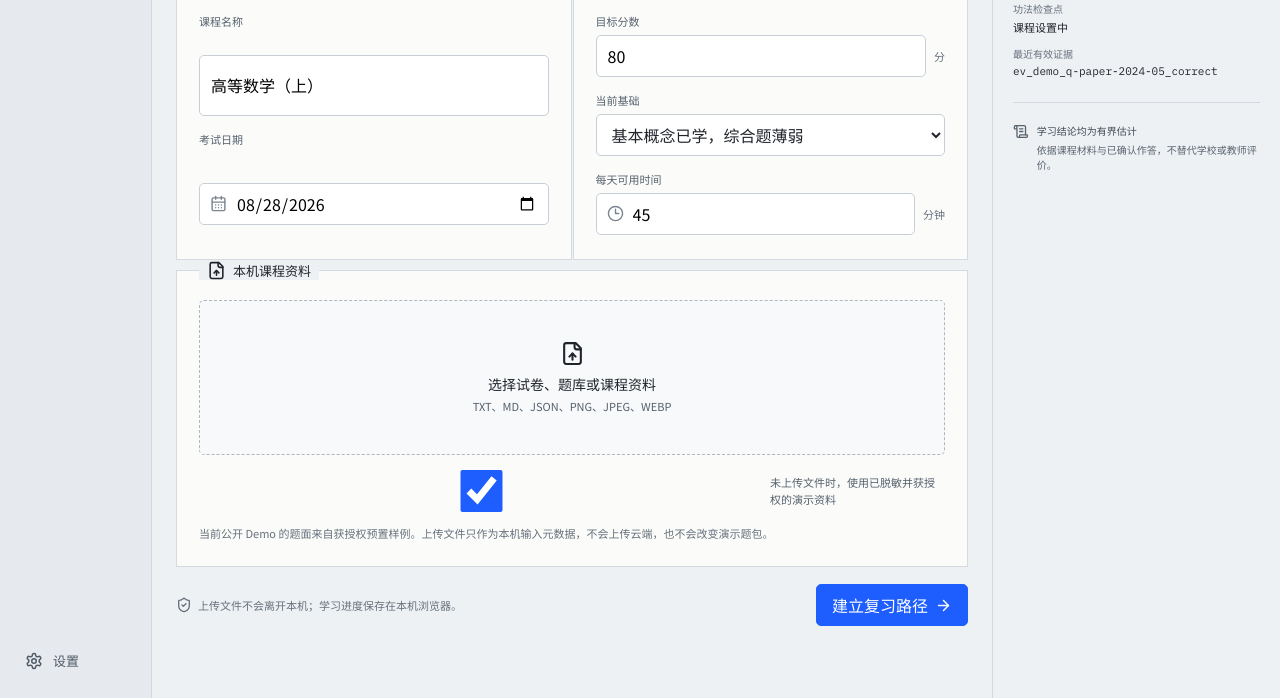
warns when a new round cannot clear persisted progress
(page scrolled)
What coordinates should you click on to do the following:
click the button "建立复习路径"
I would click on:
 (892, 606)
Its box is [816,584,968,626].
(page scrolled)
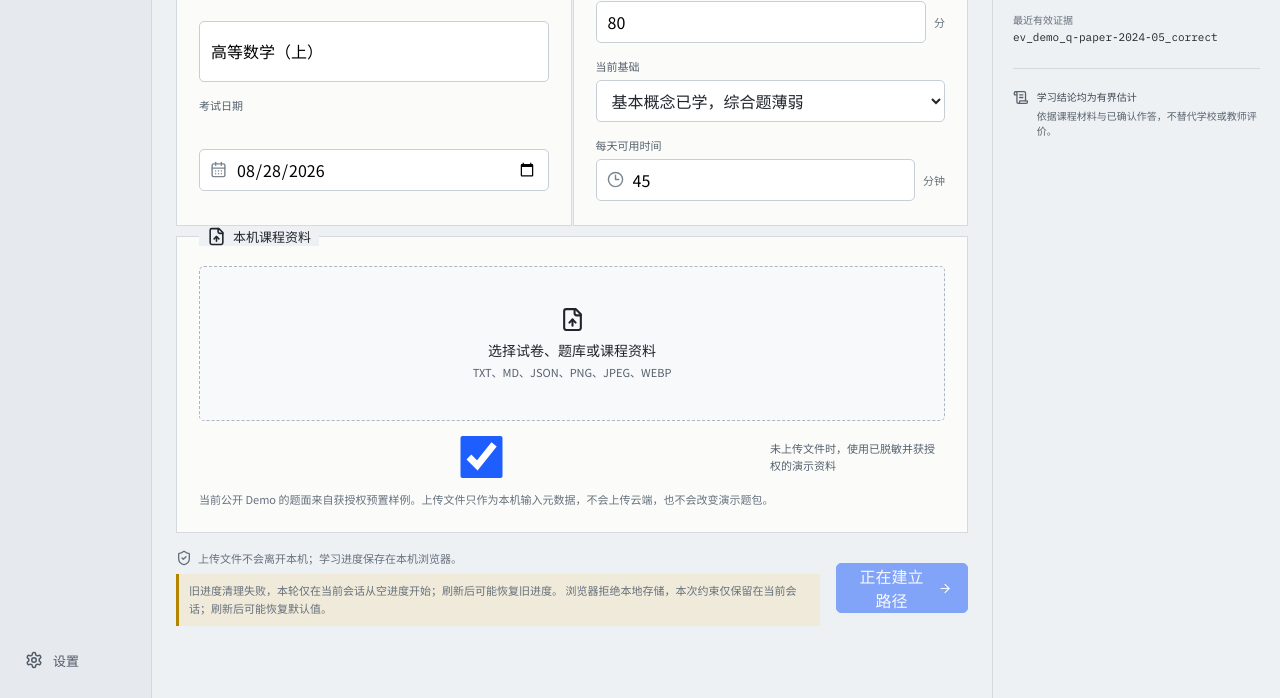
Expected: the message shows "旧进度清理失败", [189,582,796,616]
